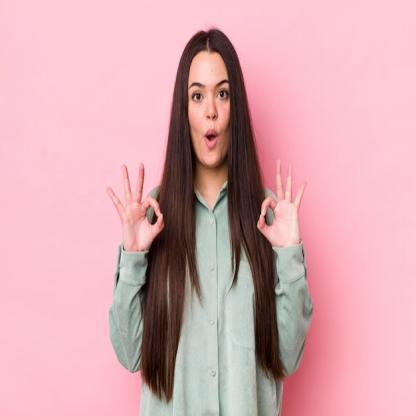ok: (103, 158, 169, 256), (256, 154, 309, 249)
